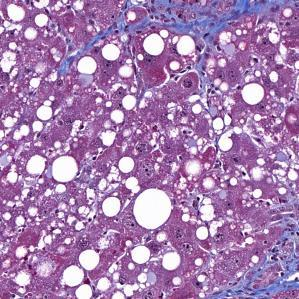fibrosis: (233, 224, 299, 299), (117, 0, 245, 36)
